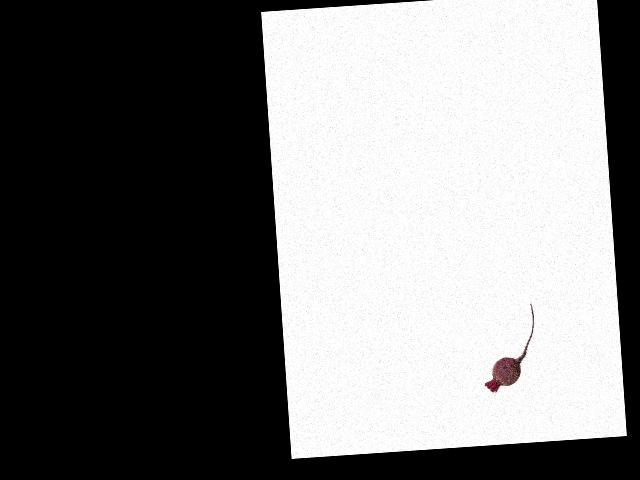beet: (479, 302, 539, 392)
